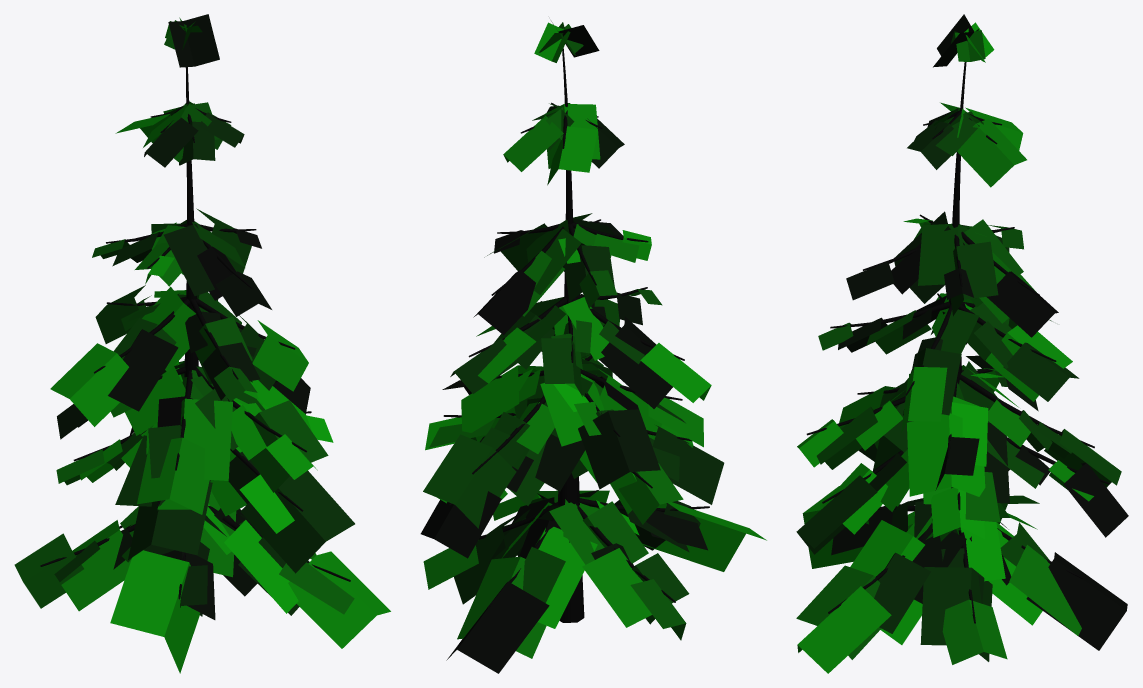
File: ProcPine_11.fbx
3 renders of one model, left to right at view 1: azimuth 30°, elevation 25°; view 2: azimuth 150°, elevation 25°; view 3: azimuth 270°, elevation 25°, orthographic.
Parts seen in each view (by area): view 1: ProcPine_11_LOD0; view 2: ProcPine_11_LOD0; view 3: ProcPine_11_LOD0.
Boxes of the visible parts, left/top/right/bottom form: ProcPine_11_LOD0: left=14, top=14, right=390, bottom=673; ProcPine_11_LOD0: left=420, top=21, right=766, bottom=673; ProcPine_11_LOD0: left=796, top=14, right=1128, bottom=673.
Size of what is drawn, in the model's own units: 251 by 514 by 257.
